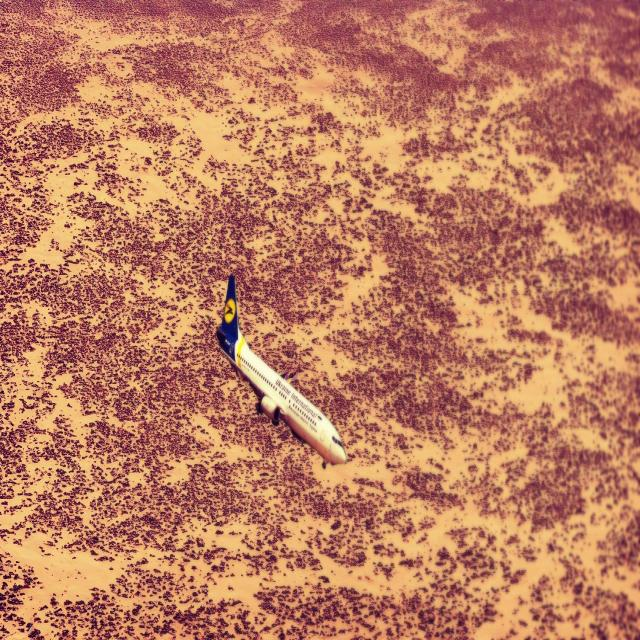airplane: (215, 272, 347, 468)
